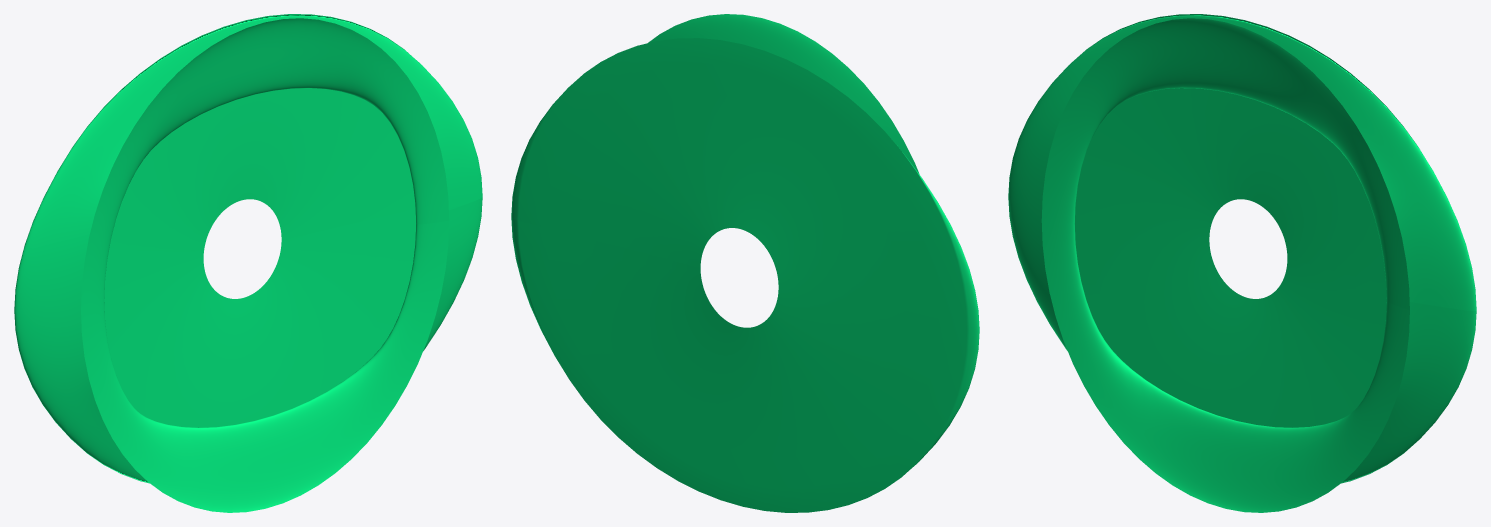
The model's file is phantom_dark_energy_physics_animated_1764782295220.glb.
3 renders of one model, left to right at view 1: azimuth 30°, elevation 25°; view 2: azimuth 150°, elevation 25°; view 3: azimuth 330°, elevation 25°, orthographic.
Parts seen in each view (by area): view 1: MathShape; view 2: MathShape; view 3: MathShape.
Part boxes in pixels (box(x1,y1,x2,y2)): MathShape: box(14, 14, 482, 512); MathShape: box(511, 14, 979, 512); MathShape: box(1008, 14, 1476, 512).
Bounding box in the file's own units: 12 × 11.92 × 1.
